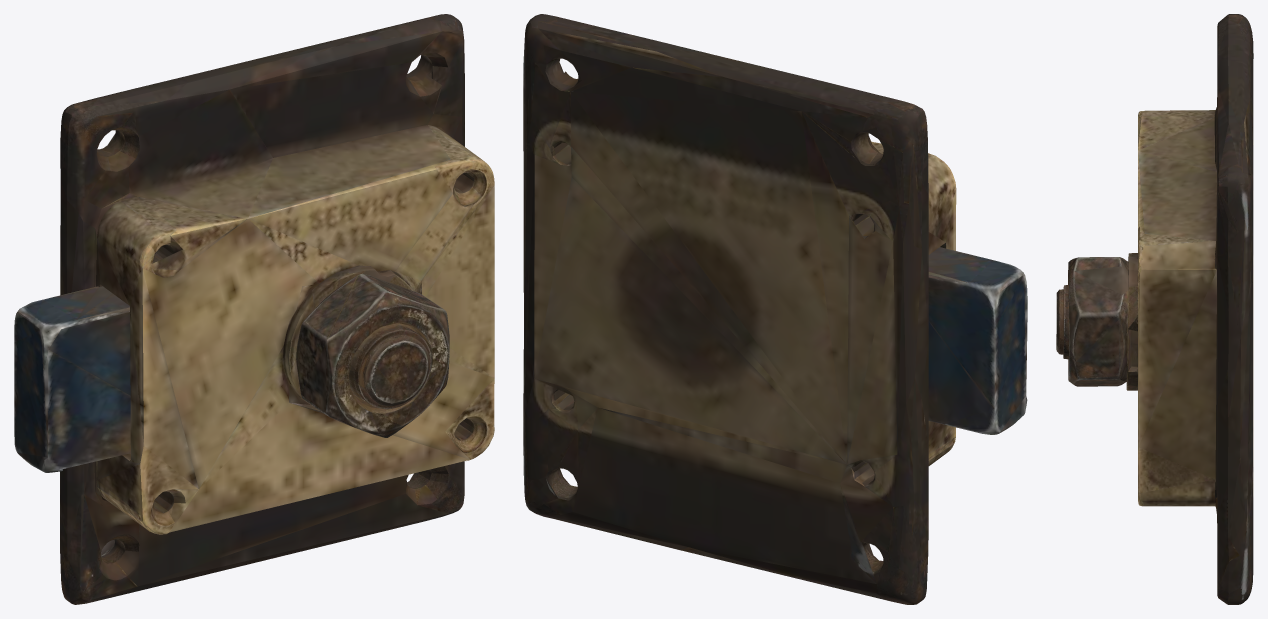
File: latch.glb
3 views of the same model, side by side, from view 1: azimuth 30°, elevation 25°; view 2: azimuth 150°, elevation 25°; view 3: azimuth 270°, elevation 25° (orthographic). The views are drawn at different scales.
Visible parts, largest first — view 1: Mesh_0; view 2: Mesh_0; view 3: Mesh_0.
Boxes of the visible parts, left/top/right/bottom form: Mesh_0: left=14, top=14, right=494, bottom=604; Mesh_0: left=523, top=14, right=1027, bottom=604; Mesh_0: left=1056, top=14, right=1253, bottom=604.
Size of the model in its own units: 1.84 by 1.9 by 0.7854.
1 material, 1 textured.
